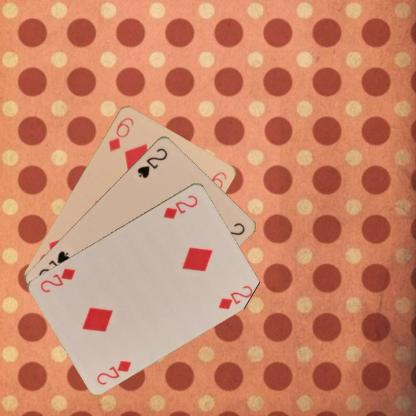2d: (93, 357, 133, 386), (160, 192, 199, 220)
2s: (134, 145, 169, 180)
6d: (105, 113, 135, 153)
